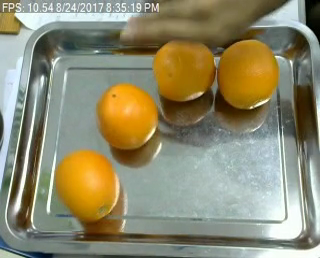Orange: (54, 148, 119, 220), (217, 38, 279, 109), (96, 82, 158, 148), (153, 38, 215, 100)
